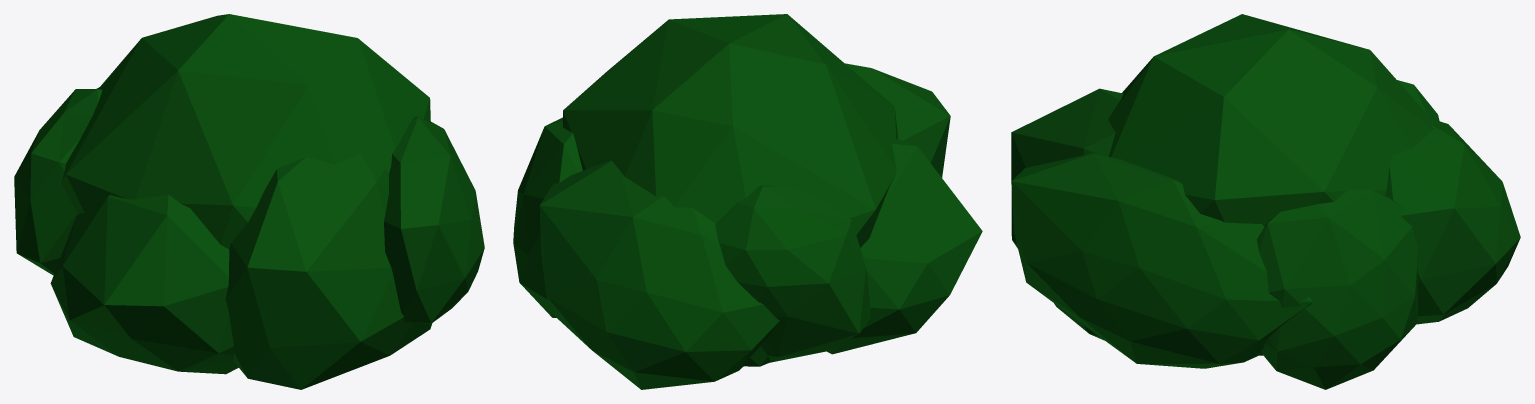
The model's file is bush9.fbx.
3 views of the same model, side by side, from view 1: azimuth 30°, elevation 25°; view 2: azimuth 150°, elevation 25°; view 3: azimuth 270°, elevation 25° (orthographic). The views are drawn at different scales.
Parts seen in each view (by area): view 1: Cube.004; view 2: Cube.004; view 3: Cube.004.
Part boxes in pixels (box(x1,y1,x2,y2)): Cube.004: box(14, 14, 484, 389); Cube.004: box(513, 14, 982, 389); Cube.004: box(1011, 14, 1520, 389).
Bounding box in the file's own units: 285 × 211 × 326.
